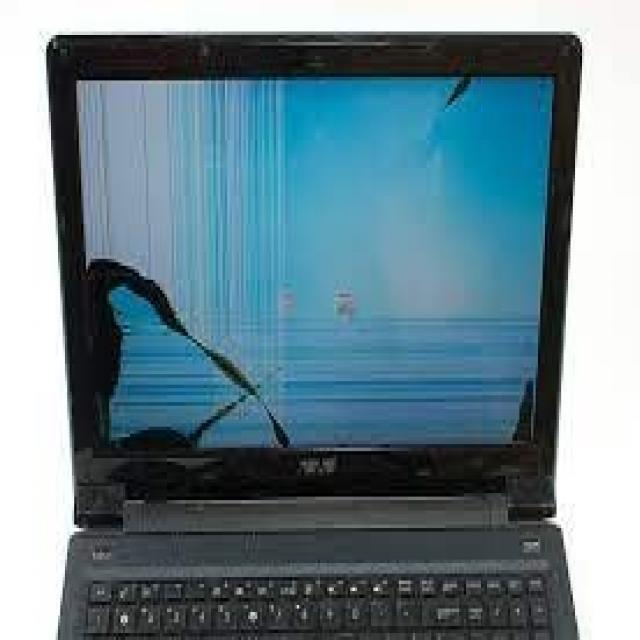Screen cracks: (84, 255, 294, 465)
